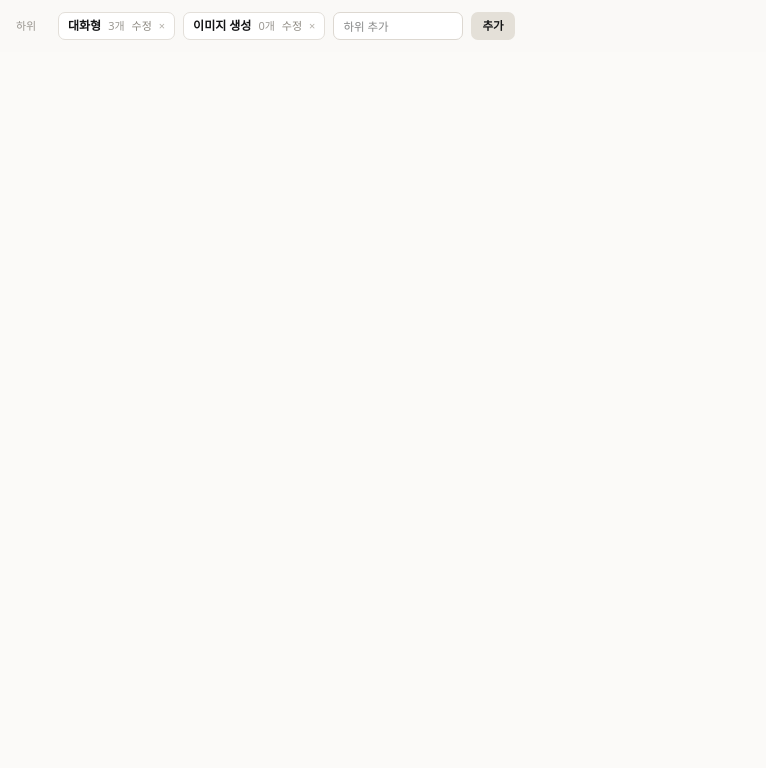
it: SubCategoryRow — 이름 수정 › 성공하면 칩으로 돌아가며 프로토타입 문구로 알린다 (773행)
Click the button with aria-label "대화형 이름 수정" at (142, 26), box [132,18,152,34]
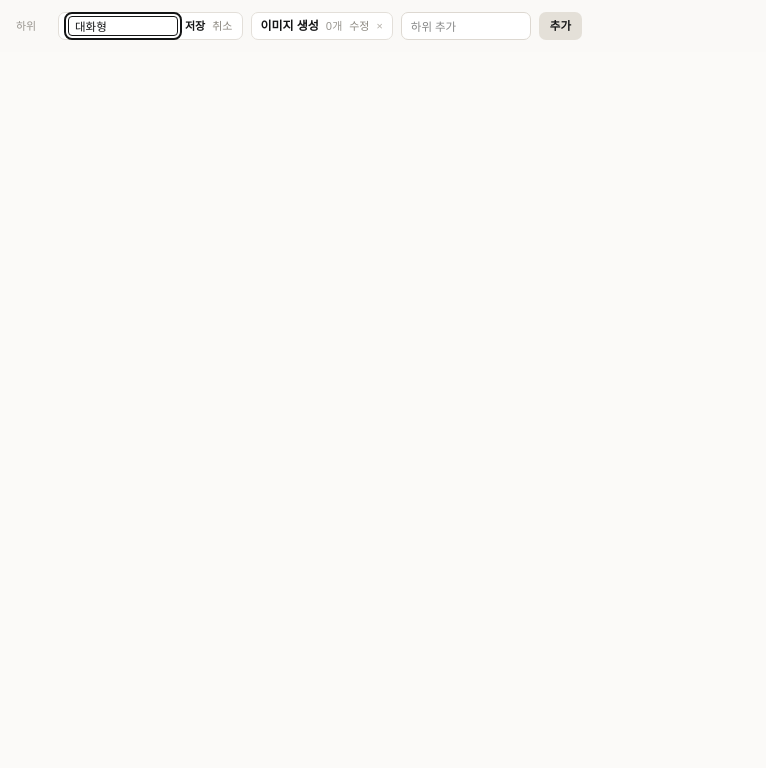
Replace the text in the field named "하위 카테고리 이름" with "챗봇" at (123, 26), box [68,16,178,36]
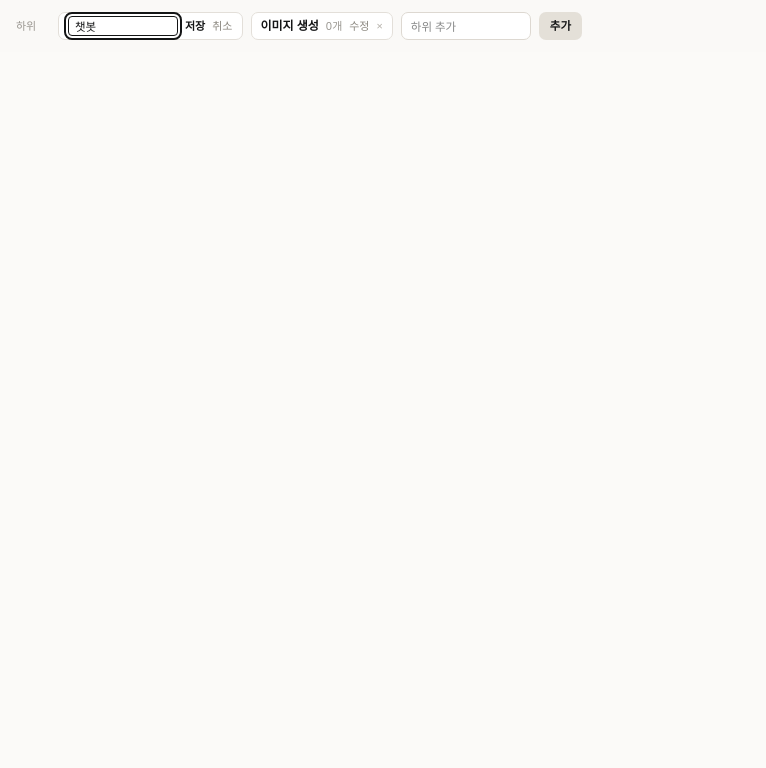
Click the button "저장" at (195, 26), box [185,18,205,34]
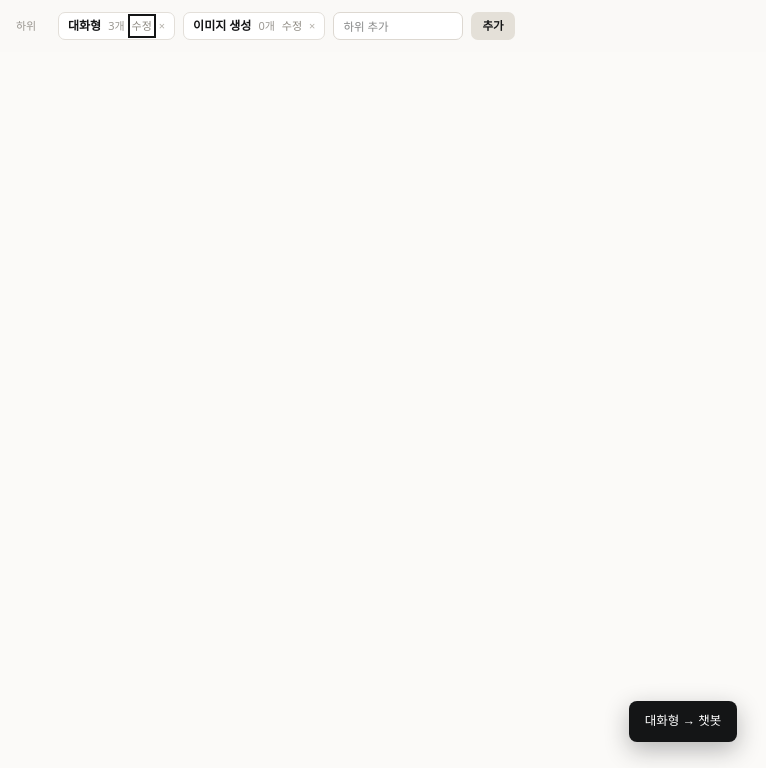
Result: the message reads "대화형 → 챗봇" at [645,712,721,729]
